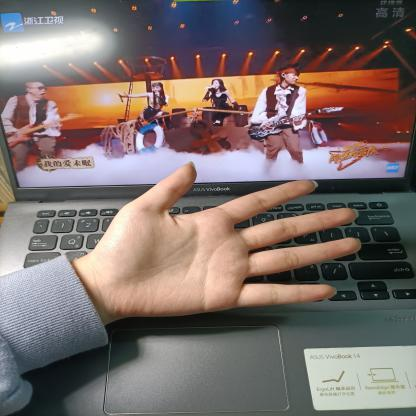bare_hand: (64, 149, 374, 333)
